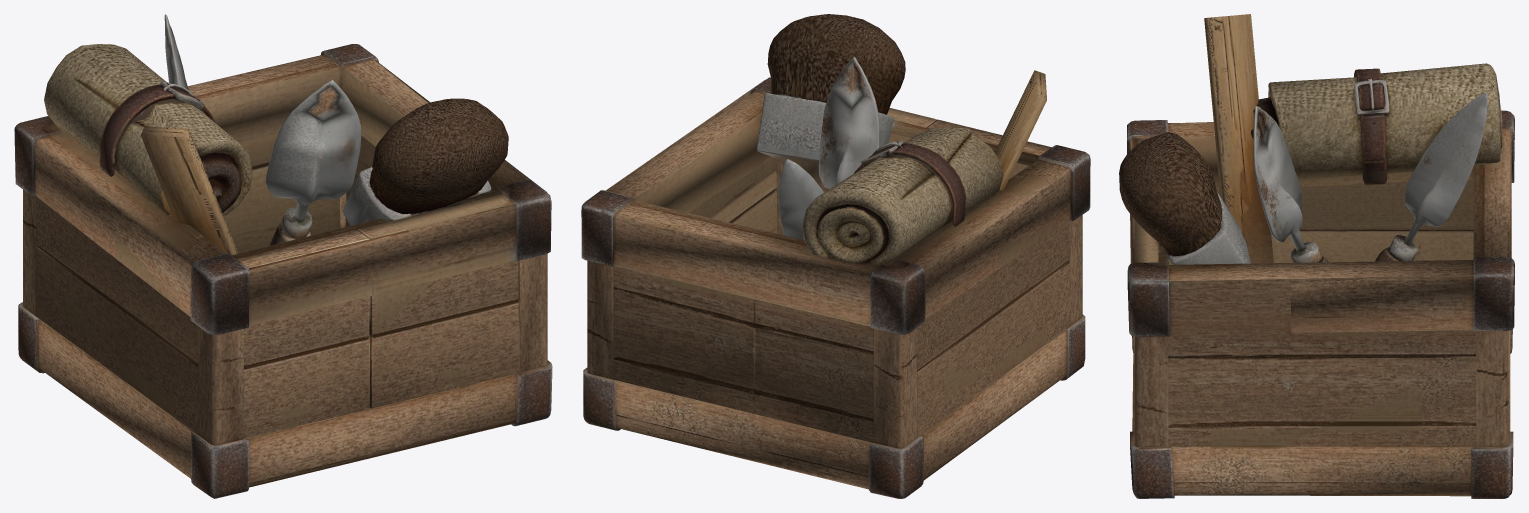
The model's file is tripo_convert_095ebe28-4e27-4022-9a50-59fb367bf8e3.fbx.
3 renders of one model, left to right at view 1: azimuth 30°, elevation 25°; view 2: azimuth 150°, elevation 25°; view 3: azimuth 270°, elevation 25°, orthographic. The views are drawn at different scales.
Parts seen in each view (by area): view 1: tripo_node_095ebe28; view 2: tripo_node_095ebe28; view 3: tripo_node_095ebe28.
Part boxes in pixels (<box>): tripo_node_095ebe28: <box>14,14,552,498</box>; tripo_node_095ebe28: <box>581,14,1090,498</box>; tripo_node_095ebe28: <box>1119,14,1514,498</box>.
Size of the model in its own units: 0.998 by 0.9121 by 0.9902.
Materials: 1 (1 with a texture image).
